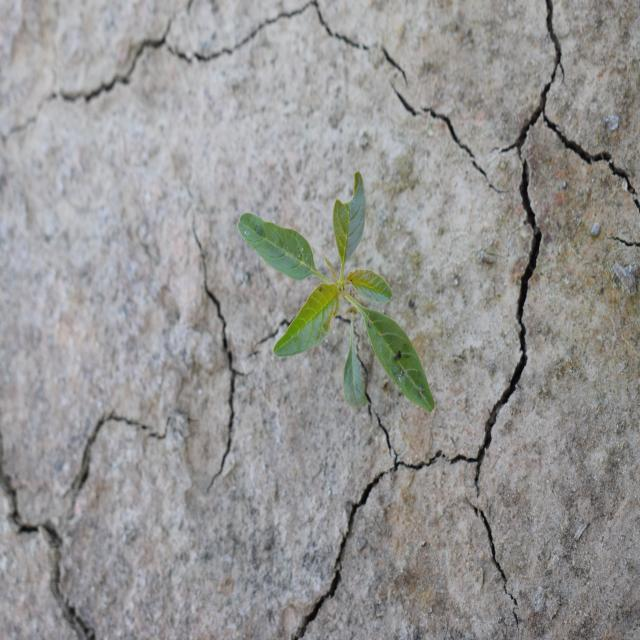Waterhemp: (236, 170, 436, 414)
